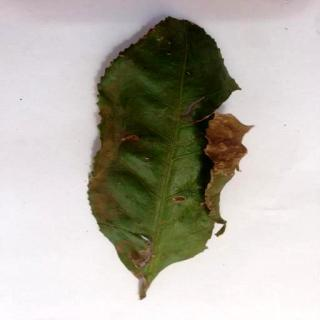Algal Leaf: (90, 16, 254, 302)
